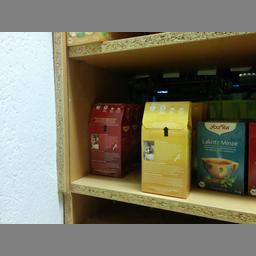tea: (140, 100, 190, 198), (196, 119, 246, 193), (88, 102, 130, 176)
